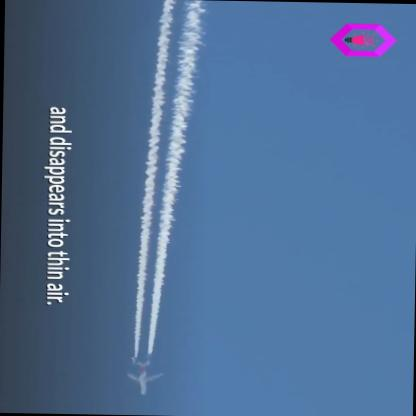plane: (123, 354, 173, 398)
